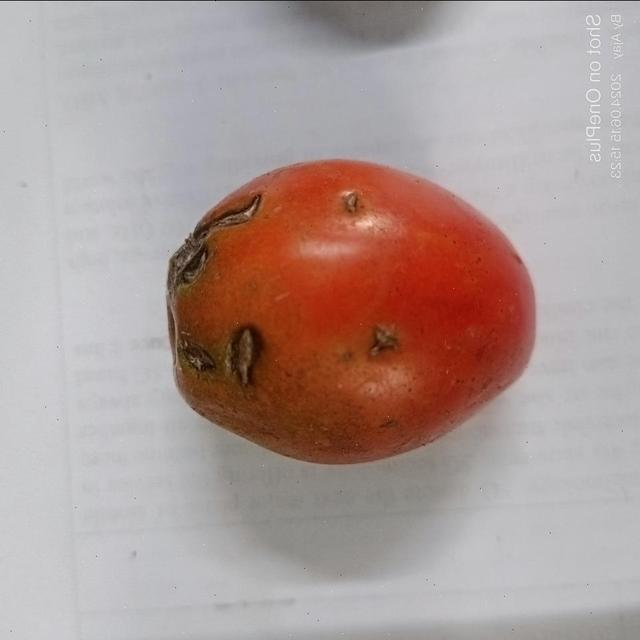Cracking Fruit: (116, 129, 172, 242)
